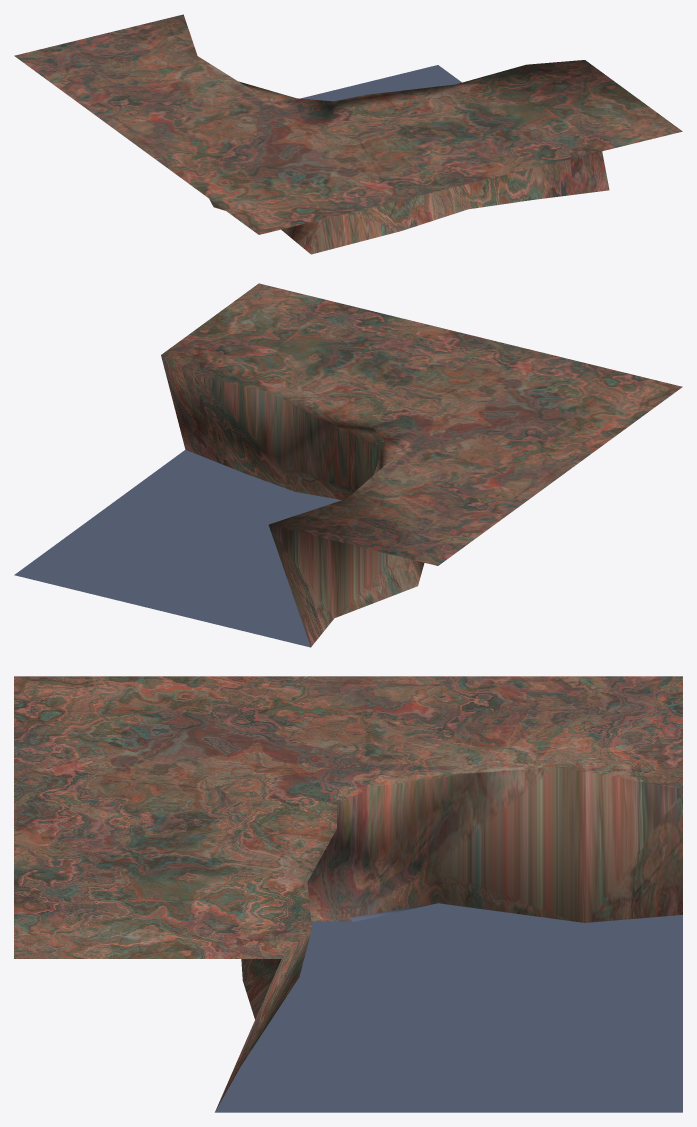
The model's file is cave_water_concave1.glb.
The picture shows the model from 3 angles, top to bottom: view 1: azimuth 30°, elevation 25°; view 2: azimuth 150°, elevation 25°; view 3: azimuth 270°, elevation 25°; orthographic projection. The views are drawn at different scales.
Parts seen in each view (by area): view 1: water_concave1-col; view 2: water_concave1-col; view 3: water_concave1-col.
Part boxes in pixels (x1,y1,x2,y2): water_concave1-col: [14, 14, 682, 254]; water_concave1-col: [14, 283, 682, 647]; water_concave1-col: [14, 676, 682, 1112].
Bounding box in the file's own units: 2 × 0.5204 × 2.
2 materials, 1 textured.
